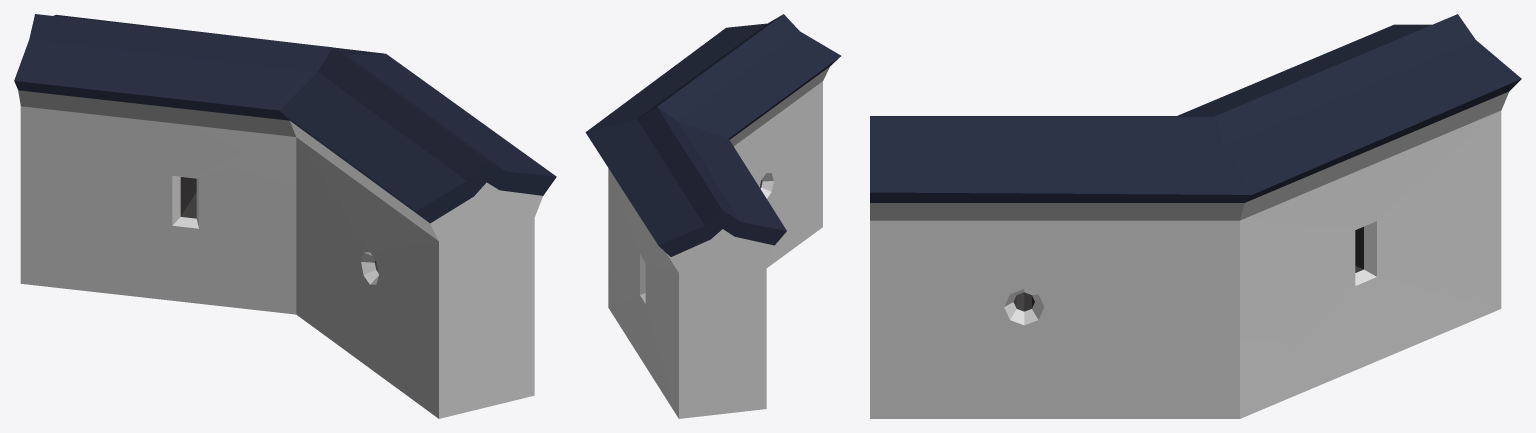
The model's file is japan_wall-japan-elbow_small.fbx.
3 views of the same model, side by side, from view 1: azimuth 30°, elevation 25°; view 2: azimuth 150°, elevation 25°; view 3: azimuth 270°, elevation 25° (orthographic). The views are drawn at different scales.
Visible parts, largest first — view 1: japan_wall_japan_elbow_small; view 2: japan_wall_japan_elbow_small; view 3: japan_wall_japan_elbow_small.
Part boxes in pixels (x1,y1,x2,y2): japan_wall_japan_elbow_small: (14, 14, 556, 418); japan_wall_japan_elbow_small: (585, 14, 840, 418); japan_wall_japan_elbow_small: (870, 14, 1521, 418).
Bounding box in the file's own units: 122 × 93.72 × 200.
